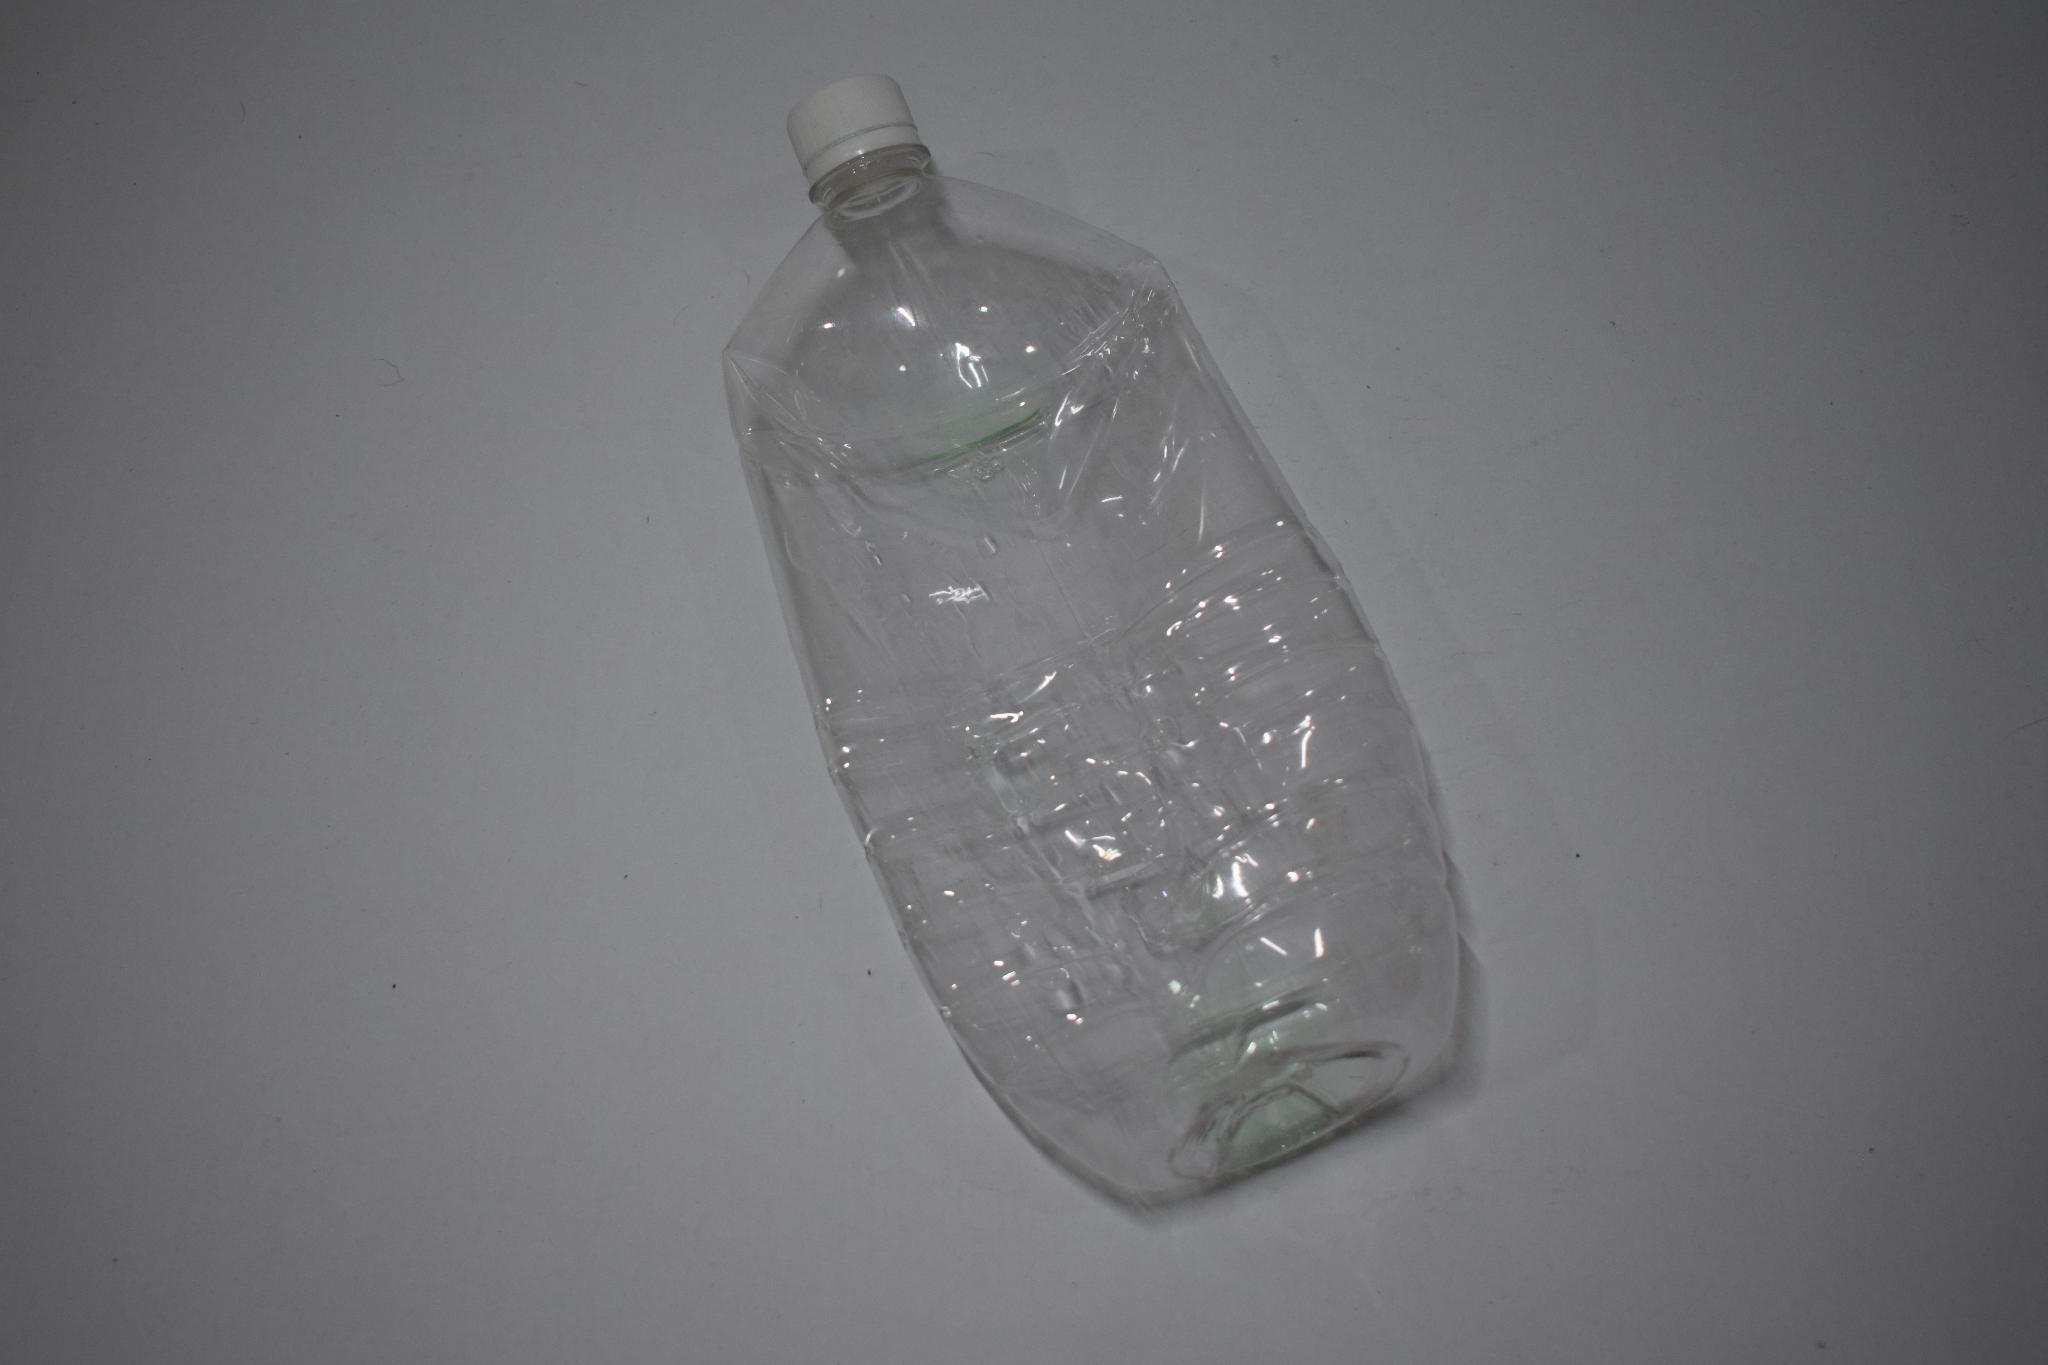bottle: (704, 52, 1490, 1222)
